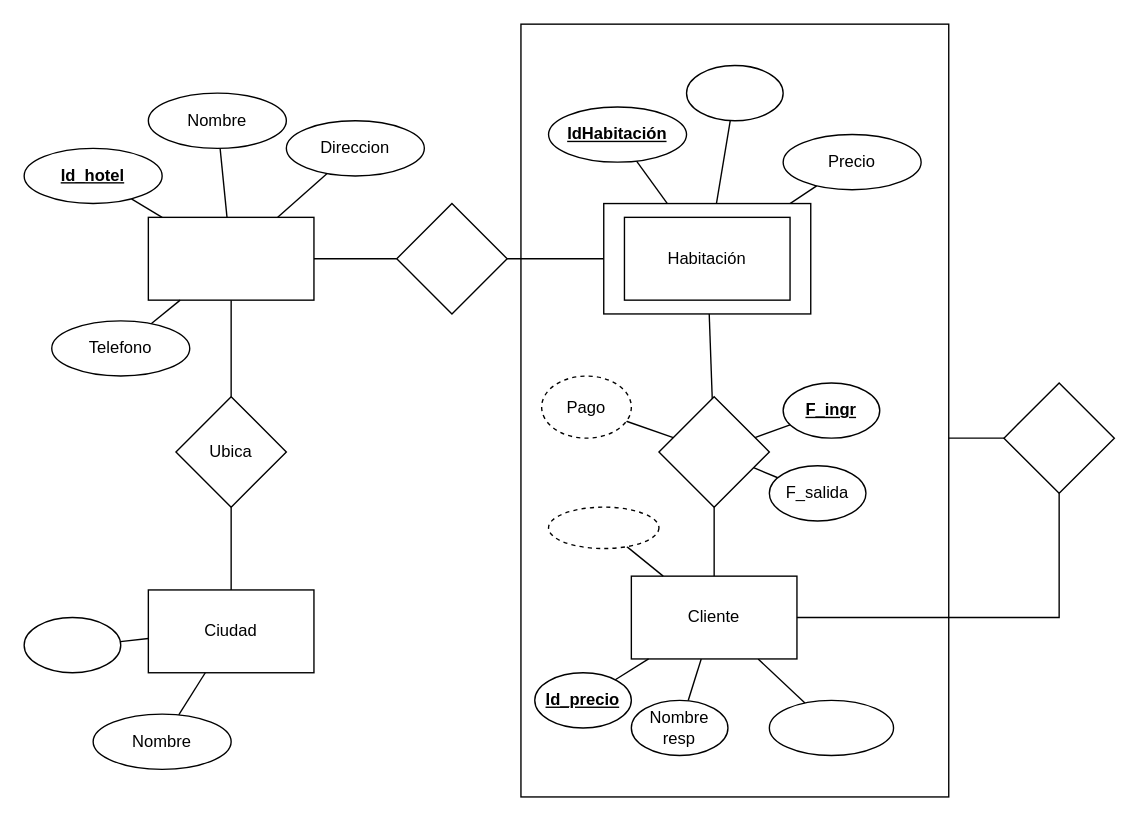
This 1139x821 diagram has some shape labels left out. The shapes that lost their labels are listed below. From the top down, each one's box as (x1, y1, x2, y2) in pixels, then its label:
(685, 64, 783, 121): Cupo
(147, 216, 314, 300): Hotel
(395, 202, 507, 314): Contiene
(658, 395, 769, 507): Hospeda
(1003, 382, 1114, 493): Responde
(547, 506, 659, 549): Edad
(23, 616, 121, 673): Id_ciudad
(768, 699, 894, 756): Fecha_nacimi
